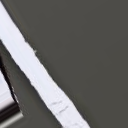crackTip: (1, 40, 64, 128)
